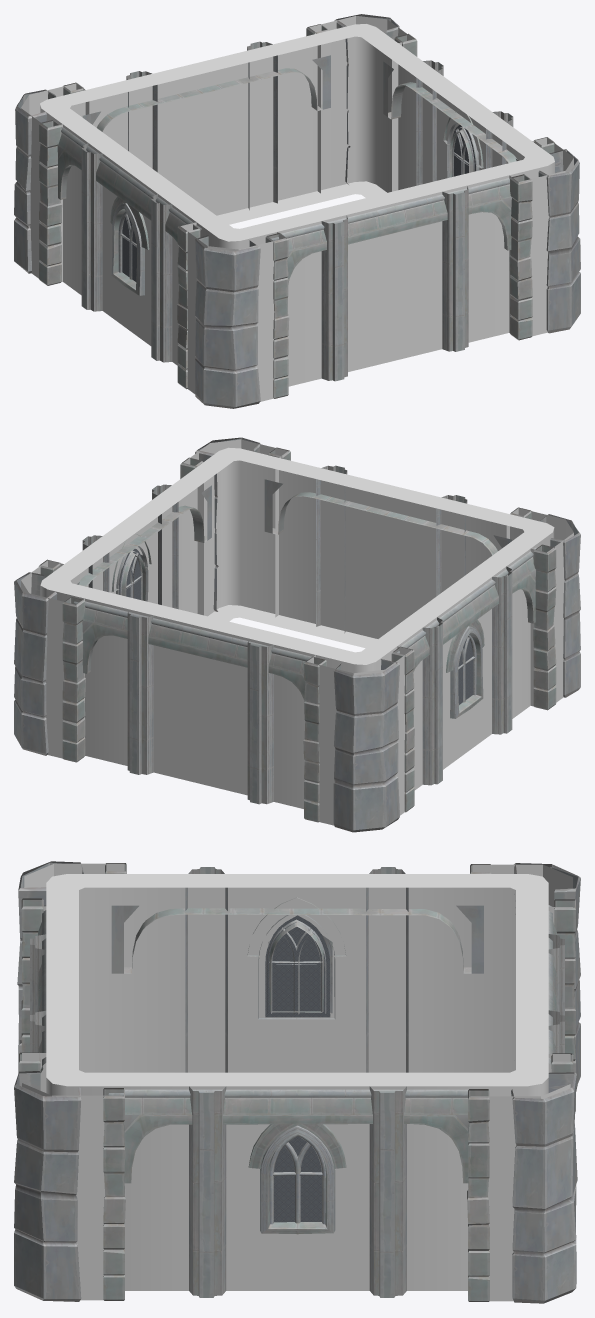
File: SM_TowerF_Mid2Window_Window.fbx
3 renders of one model, top to bottom at view 1: azimuth 30°, elevation 25°; view 2: azimuth 150°, elevation 25°; view 3: azimuth 270°, elevation 25°, orthographic. The views are drawn at different scales.
Visible parts, largest first — view 1: SM_TowerF_Mid2Window_Window_LOD0; view 2: SM_TowerF_Mid2Window_Window_LOD0; view 3: SM_TowerF_Mid2Window_Window_LOD0.
Boxes of the visible parts, bbox=[...] form: SM_TowerF_Mid2Window_Window_LOD0: bbox=[14, 14, 580, 408]; SM_TowerF_Mid2Window_Window_LOD0: bbox=[14, 437, 580, 832]; SM_TowerF_Mid2Window_Window_LOD0: bbox=[14, 861, 580, 1303].
Size of what is drawn, in the model's own units: 11.29 by 4.5 by 11.29.
